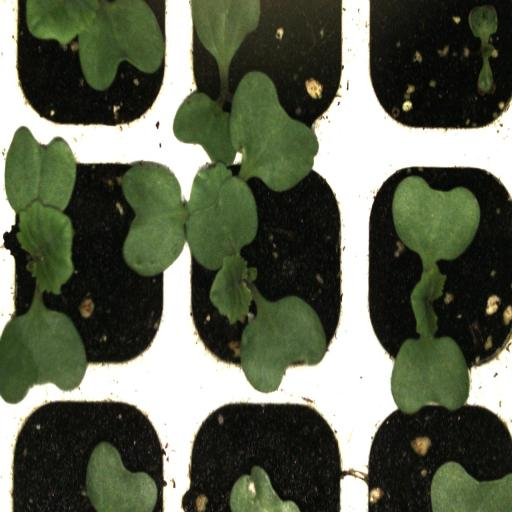Folha: (26, 0, 165, 91), (191, 0, 284, 80), (84, 441, 158, 512), (430, 461, 512, 512)
Germinacao: (175, 148, 358, 391), (5, 145, 174, 392), (360, 148, 512, 390), (361, 0, 512, 137)
